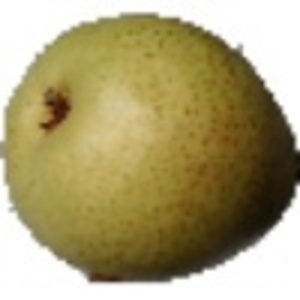pera: (1, 11, 300, 286)
